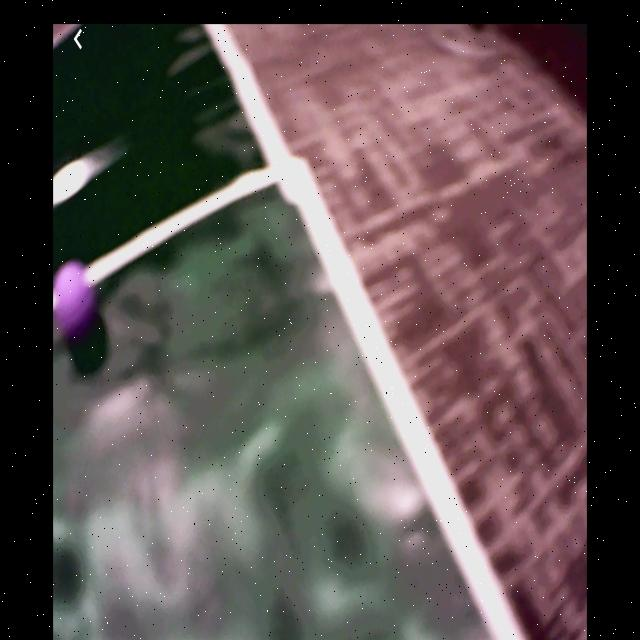ball: (53, 260, 99, 344)
